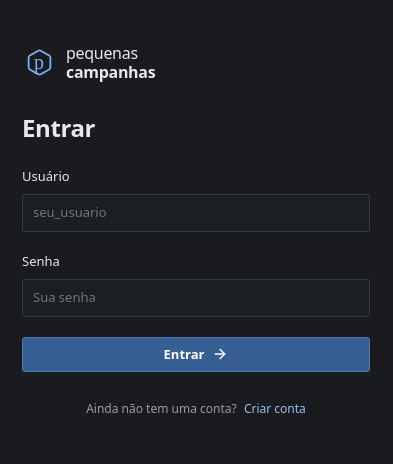
username and password forms › submits username/password and displays a translated credential failure
This screenshot has width=393, height=464.
Type "kbum" into the field labelled "Usuário". click: (196, 213)
box: 22,194 -> 370,232
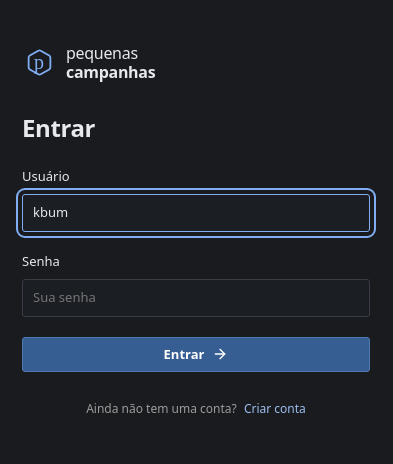
Type "incorrect-password" into the password field labelled "Senha". click: (196, 298)
box: 22,279 -> 370,317
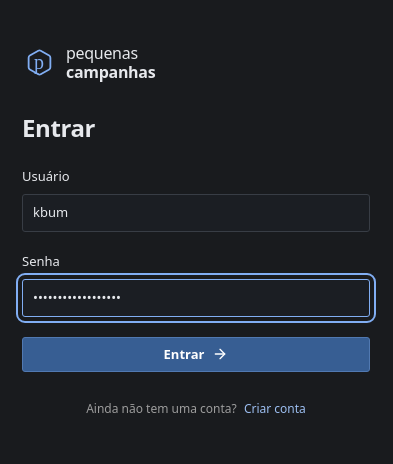
Click the button "Entrar". click: (196, 354)
box: 22,337 -> 370,372
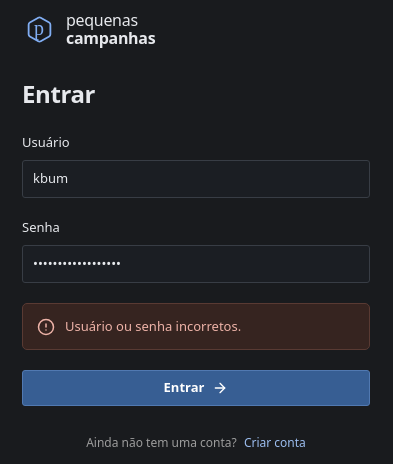
Check: the message reads "Usuário ou senha incorretos.", box 65,317 -> 241,335
